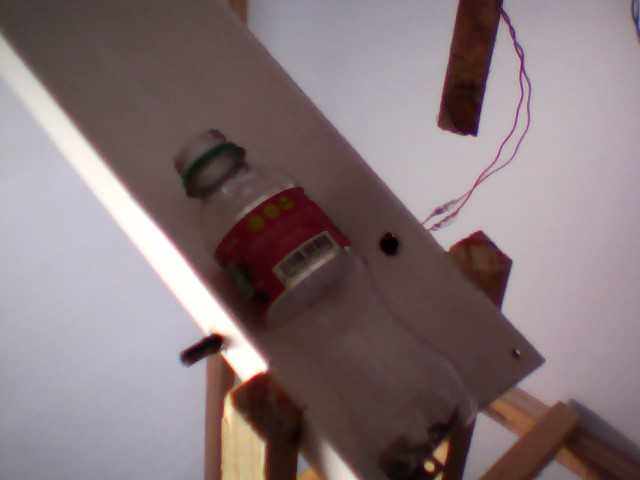plastico: (165, 123, 495, 480)
